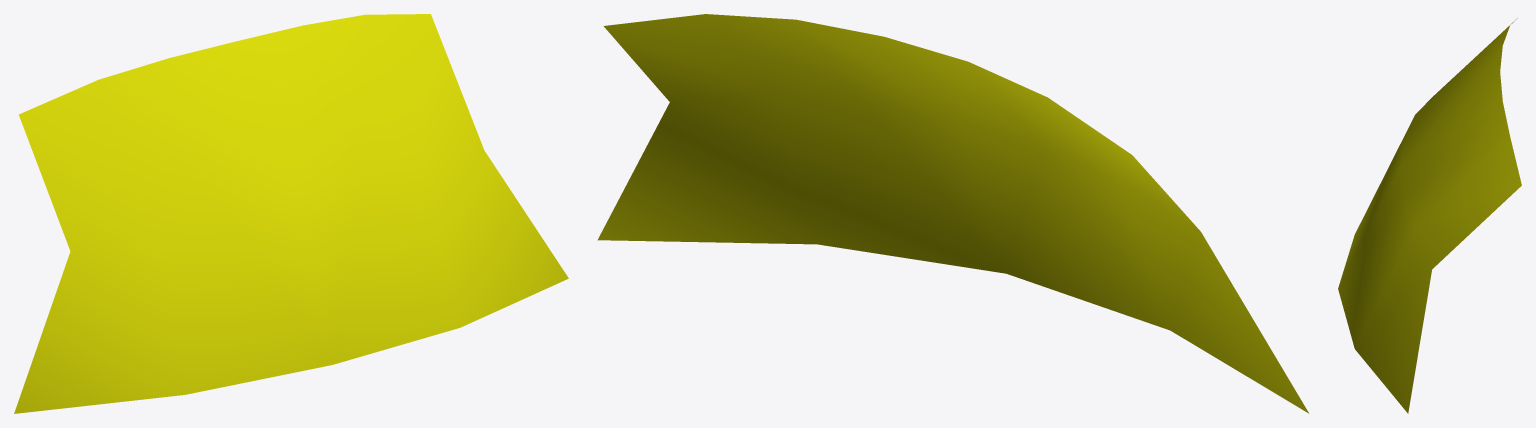
Rendered from Forehead1_42.glb.
The picture shows the model from 3 angles, left to right: view 1: azimuth 30°, elevation 25°; view 2: azimuth 150°, elevation 25°; view 3: azimuth 270°, elevation 25°; orthographic projection. The views are drawn at different scales.
Size of the model in its own units: 28.35 by 12.97 by 9.54.
